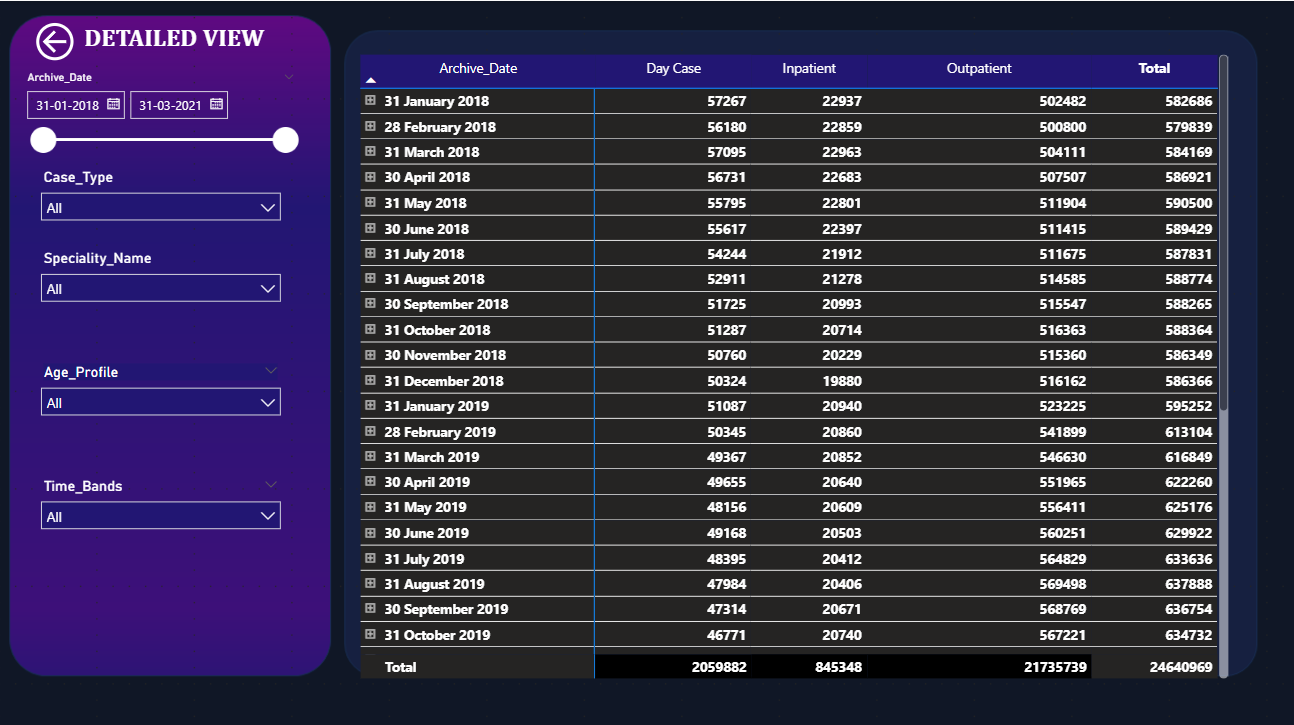

The dashboard page shown, as its layout file describes it:
{"tool":"powerbi","page":{"name":"Detail","canvas":[1280,720],"ordinal":1},"visuals":[{"type":"slicer","fields":{"Values":["All_Data.Archive_Date"]},"box":[16,64,288,96],"z":0},{"type":"slicer","fields":{"Values":["All_Data.Case_Type"]},"box":[32,160,256,80],"z":1000},{"type":"slicer","fields":{"Values":["All_Data.Speciality_Name"]},"box":[32,240,256,80],"z":2000},{"type":"textbox","box":[80,16,224,48],"z":3000},{"type":"slicer","fields":{"Values":["All_Data.Time_Bands"]},"box":[32,464,256,80],"z":4000},{"type":"slicer","fields":{"Values":["All_Data.Age_Profile"]},"box":[32,352,256,80],"z":5000},{"type":"pivotTable","fields":{"Rows":["All_Data.Archive_Date","All_Data.Speciality_Name","All_Data.Age_Profile","All_Data.Time_Bands"],"Columns":["All_Data.Case_Type"],"Values":["Sum(All_Data.Total)"]},"box":[352,48,864,624],"z":6000},{"type":"actionButton","box":[32,16,64,48],"z":7000}]}

Visuals, with their boxes in screenshot pixels (x1, y1, x2, y2), scaled from the page's 1280x720 canvas onto the 1294x725 screenshot:
slicer - All_Data.Archive_Date: <region>16, 64, 307, 161</region>
slicer - All_Data.Case_Type: <region>32, 161, 291, 242</region>
slicer - All_Data.Speciality_Name: <region>32, 242, 291, 322</region>
textbox: <region>81, 16, 307, 64</region>
slicer - All_Data.Time_Bands: <region>32, 467, 291, 548</region>
slicer - All_Data.Age_Profile: <region>32, 354, 291, 435</region>
pivotTable - All_Data.Archive_Date x All_Data.Speciality_Name: <region>356, 48, 1229, 677</region>
actionButton: <region>32, 16, 97, 64</region>
